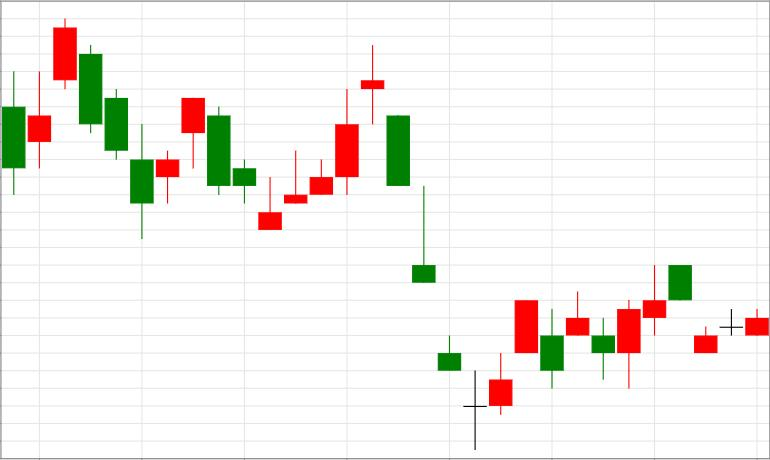evening_star_fall: (259, 44, 410, 230)
